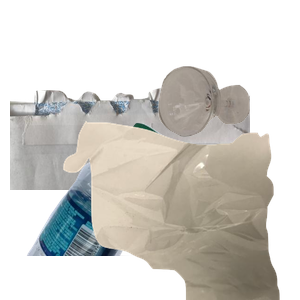glass: (156, 64, 300, 194)
paper: (10, 84, 250, 264)
plastic: (24, 120, 182, 300)
trash: (61, 120, 300, 300)
